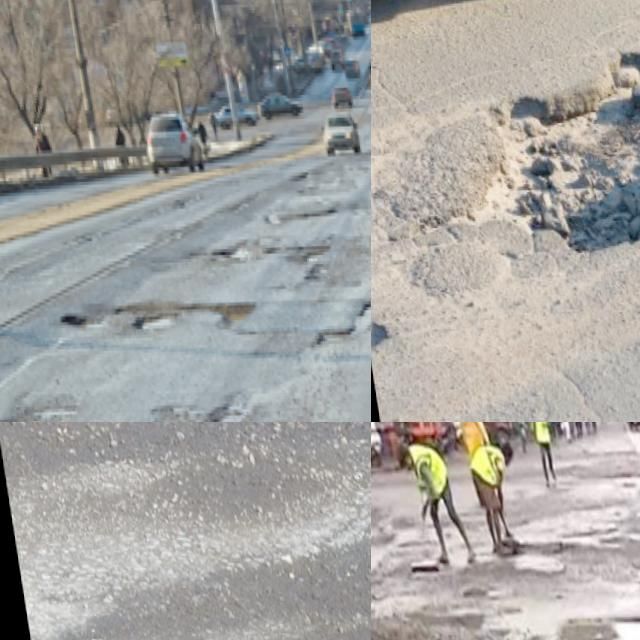Potholes: (371, 0, 640, 326), (37, 272, 268, 365), (525, 544, 640, 640), (371, 582, 516, 640), (239, 188, 334, 273), (86, 376, 253, 422), (292, 275, 371, 362), (572, 445, 640, 535), (345, 216, 371, 263)
